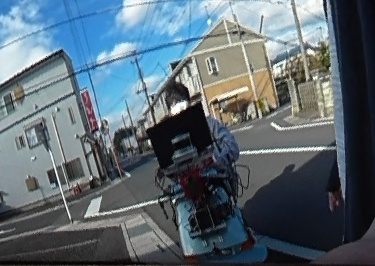person: (161, 79, 238, 196)
